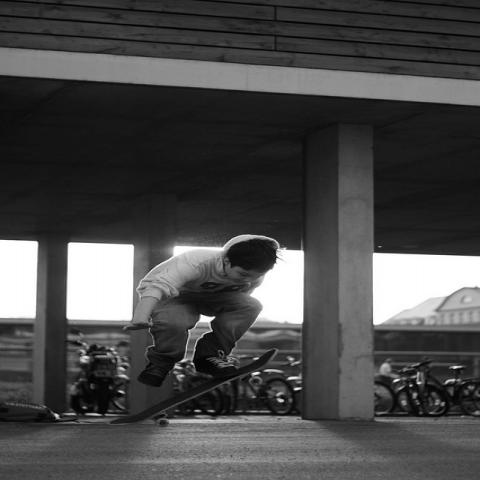motorcycle: (68, 326, 131, 420)
